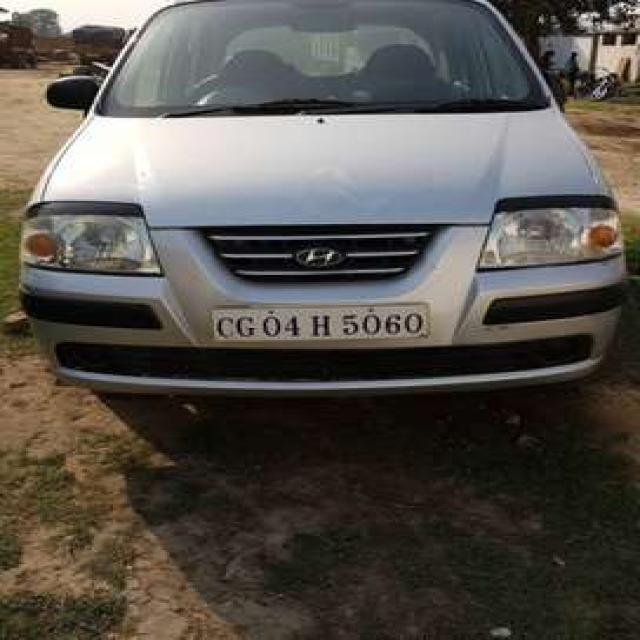licenseplate: (209, 304, 431, 341)
